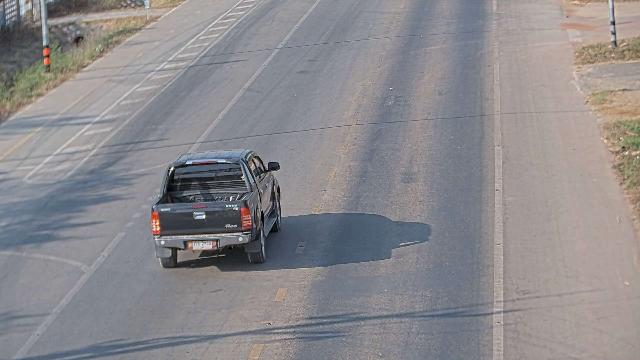pickup-truck: (150, 148, 282, 268)
